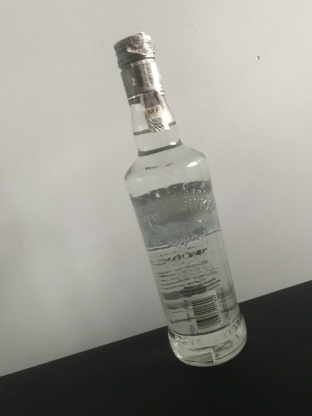nakretka: (111, 29, 166, 108)
